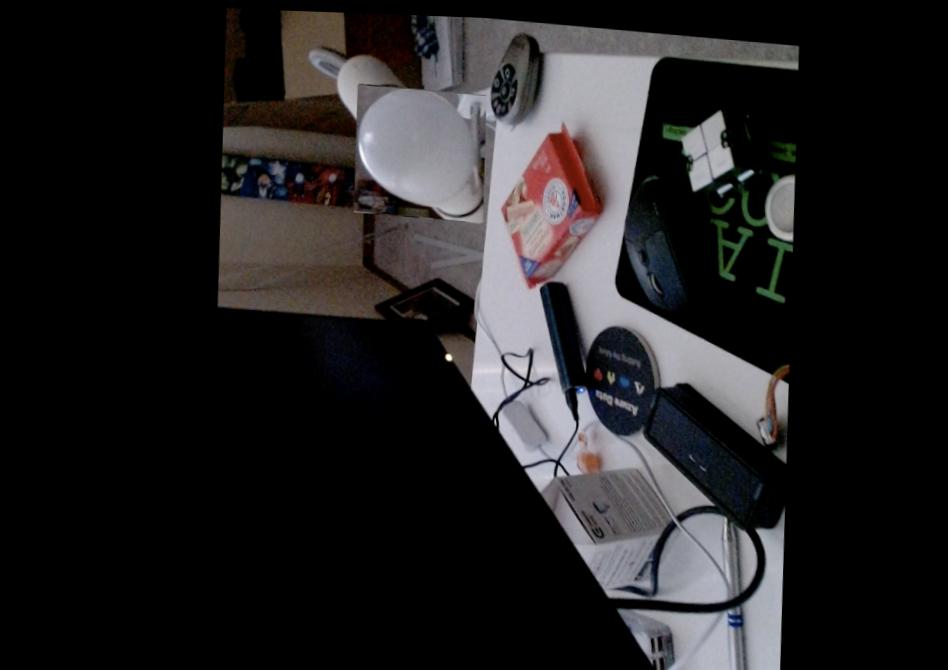Fan: (351, 80, 488, 219)
